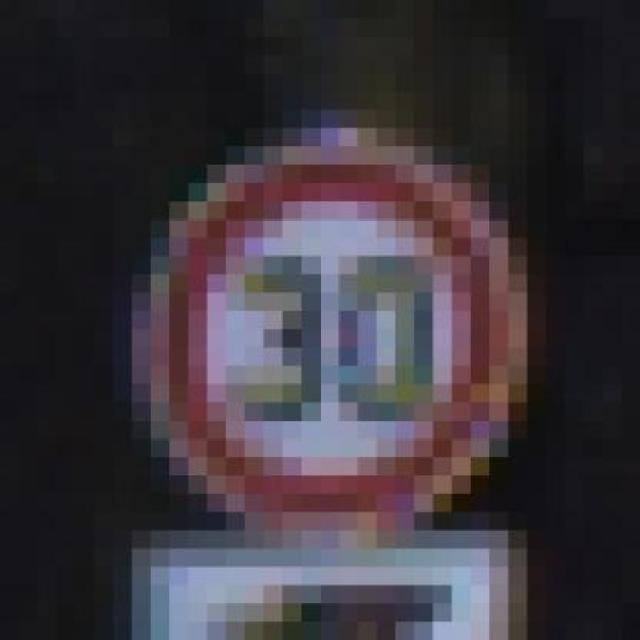forb_speed_over_30: (155, 154, 507, 521)
